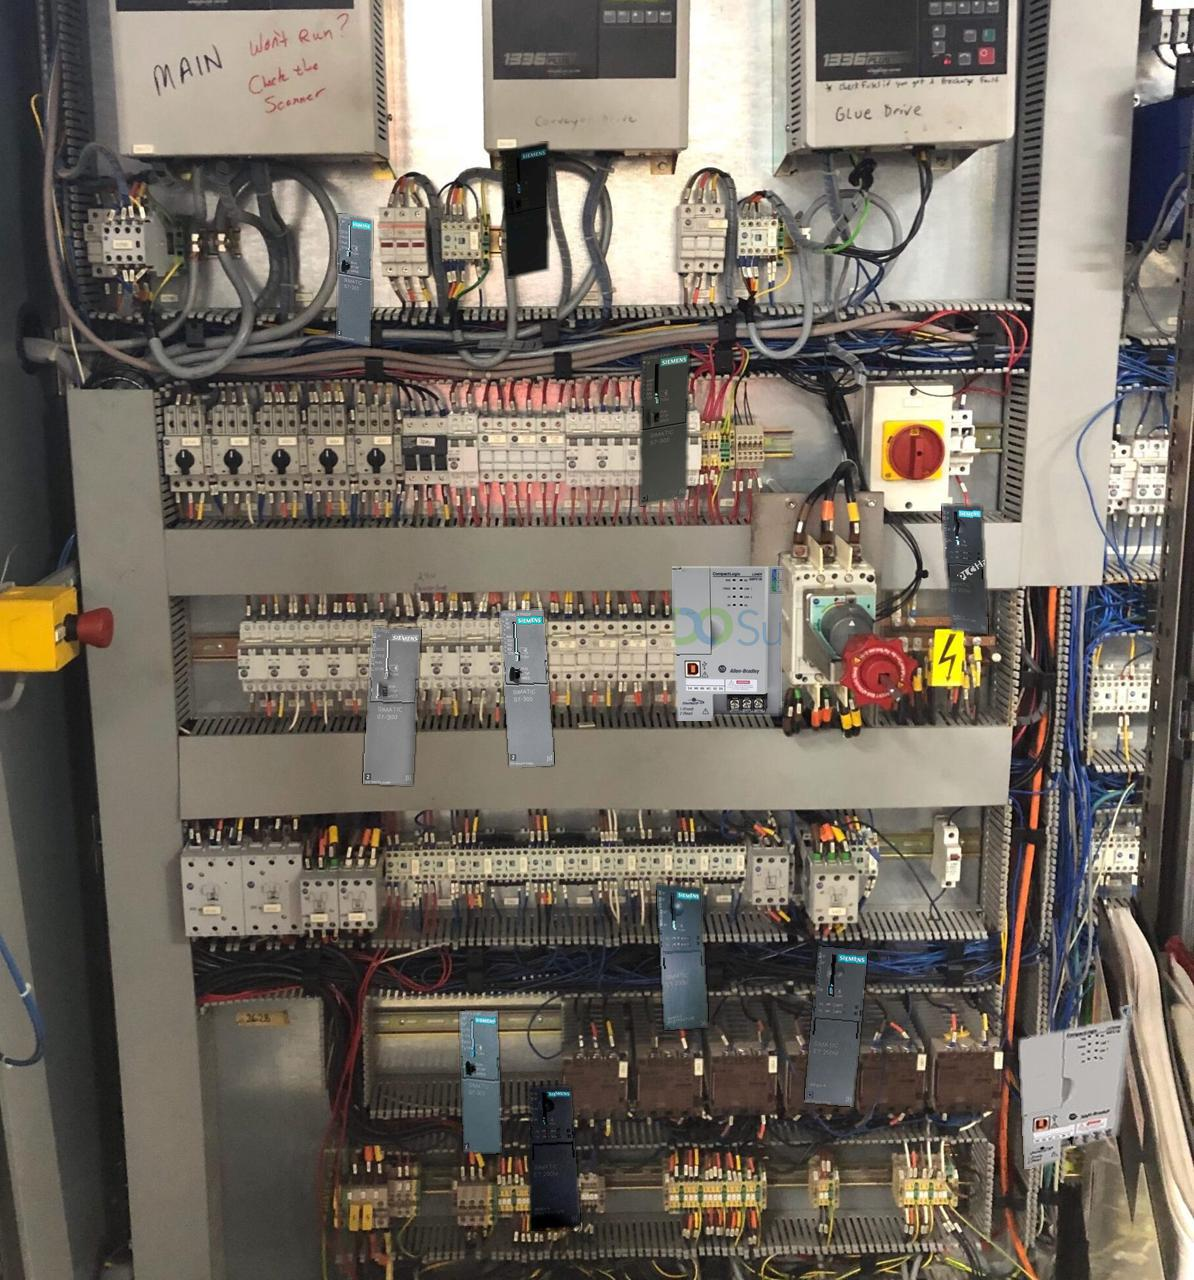AllenBradley: (1019, 1005, 1131, 1168), (672, 567, 781, 720)
Siemens: (362, 627, 420, 784), (500, 609, 553, 766), (640, 349, 689, 505), (500, 142, 548, 277), (460, 1010, 500, 1153), (337, 214, 371, 346)
